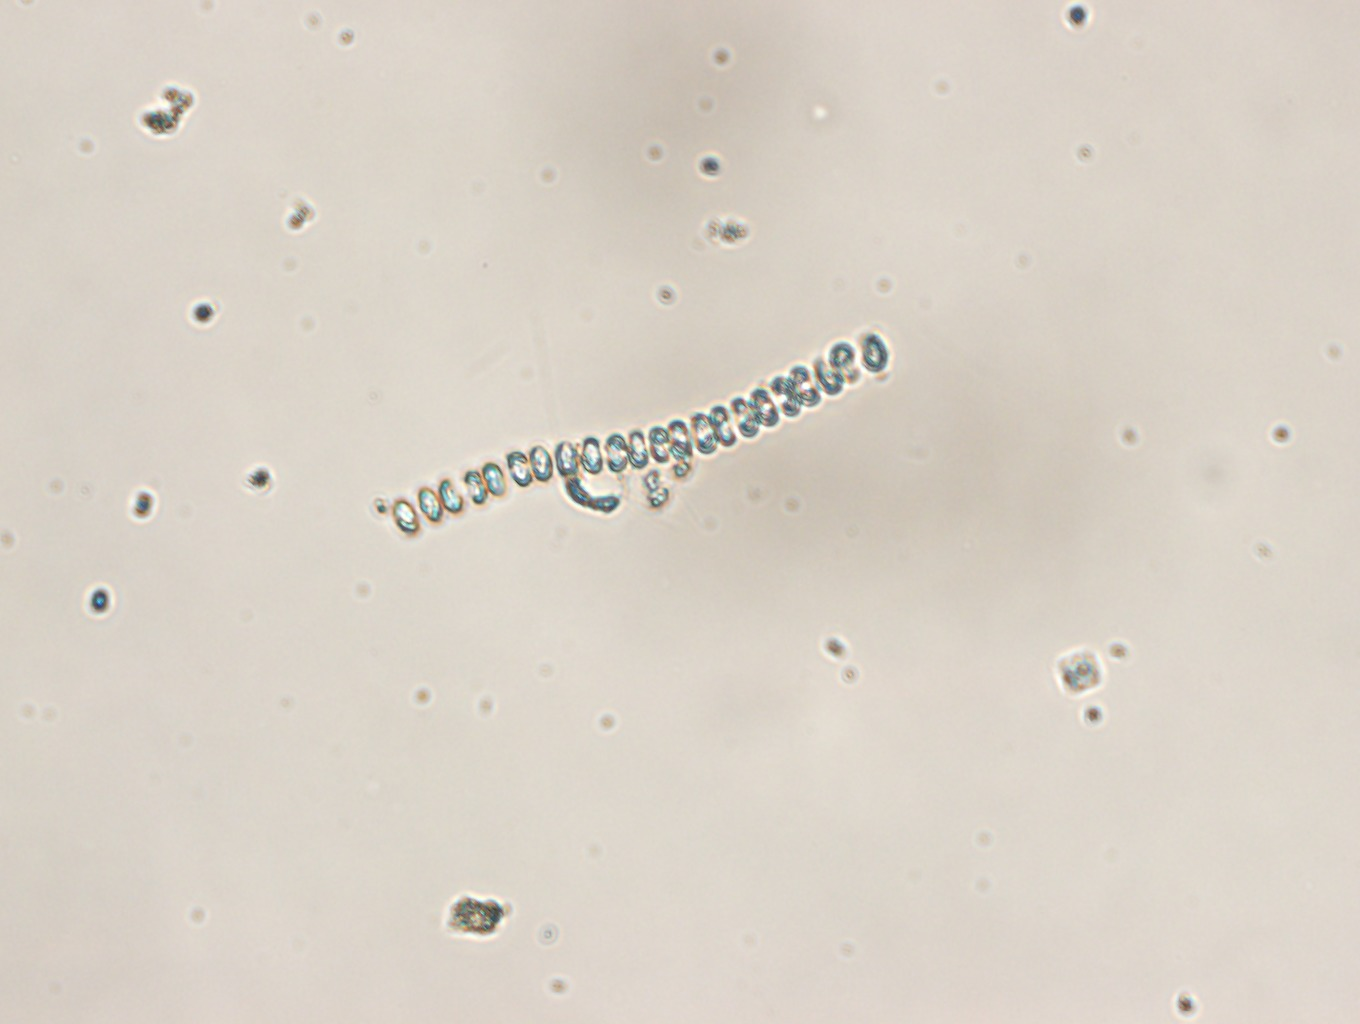skeletonema: (359, 322, 893, 547)
